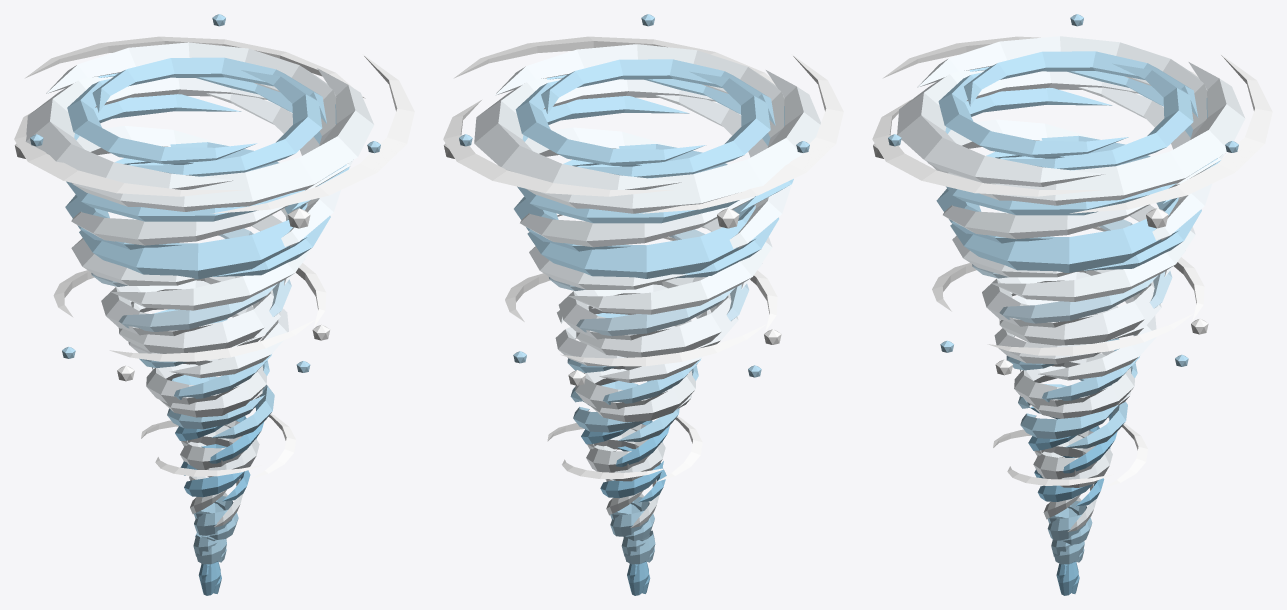
The model's file is Breeze.glb.
The picture shows the model from 3 angles, left to right: view 1: azimuth 30°, elevation 25°; view 2: azimuth 150°, elevation 25°; view 3: azimuth 270°, elevation 25°; orthographic projection.
Parts seen in each view (by area): view 1: BreezeX_Seg6, BreezeX_Seg5, BreezeX_Wind1, BreezeX_Seg4, BreezeX_Seg3, BreezeX_Wind2, BreezeX_Seg2, BreezeX_Wind3, BreezeX_Seg1; view 2: BreezeX_Seg6, BreezeX_Seg5, BreezeX_Wind1, BreezeX_Seg4, BreezeX_Seg3, BreezeX_Wind2, BreezeX_Seg2, BreezeX_Wind3, BreezeX_Seg1; view 3: BreezeX_Seg6, BreezeX_Seg5, BreezeX_Wind1, BreezeX_Seg4, BreezeX_Seg3, BreezeX_Wind2, BreezeX_Seg2, BreezeX_Wind3, BreezeX_Seg1.
Boxes of the visible parts, bbox=[...] form: BreezeX_Seg6: bbox=[25, 42, 373, 279]; BreezeX_Seg5: bbox=[71, 208, 311, 353]; BreezeX_Wind1: bbox=[14, 14, 414, 228]; BreezeX_Seg4: bbox=[128, 302, 288, 417]; BreezeX_Seg3: bbox=[167, 375, 274, 477]; BreezeX_Wind2: bbox=[53, 235, 329, 381]; BreezeX_Seg2: bbox=[180, 444, 250, 539]; BreezeX_Wind3: bbox=[141, 414, 295, 479]; BreezeX_Seg1: bbox=[193, 533, 226, 595]; BreezeX_Seg6: bbox=[474, 44, 820, 278]; BreezeX_Seg5: bbox=[529, 213, 772, 357]; BreezeX_Wind1: bbox=[443, 14, 843, 228]; BreezeX_Seg4: bbox=[555, 307, 710, 422]; BreezeX_Seg3: bbox=[570, 380, 679, 481]; BreezeX_Wind2: bbox=[505, 237, 781, 385]; BreezeX_Seg2: bbox=[600, 446, 666, 540]; BreezeX_Wind3: bbox=[547, 416, 702, 481]; BreezeX_Seg1: bbox=[621, 530, 655, 595]; BreezeX_Seg6: bbox=[897, 36, 1245, 272]; BreezeX_Seg5: bbox=[952, 205, 1195, 345]; BreezeX_Wind1: bbox=[872, 14, 1272, 228]; BreezeX_Seg4: bbox=[994, 295, 1156, 418]; BreezeX_Seg3: bbox=[1018, 378, 1127, 487]; BreezeX_Wind2: bbox=[932, 226, 1208, 375]; BreezeX_Seg2: bbox=[1034, 456, 1104, 544]; BreezeX_Wind3: bbox=[993, 417, 1147, 488]; BreezeX_Seg1: bbox=[1051, 540, 1084, 595].
Size of the model in its own units: 3.65 by 4.98 by 3.64.
1 material, 1 textured.
